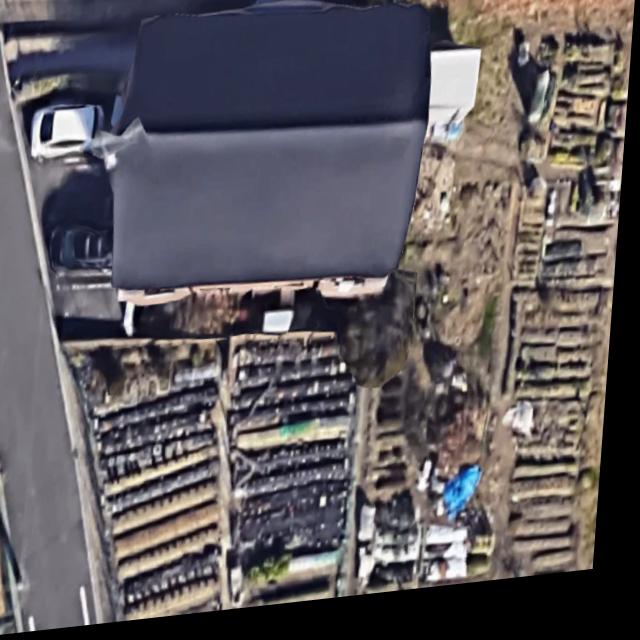Batiment: (96, 7, 433, 295)
